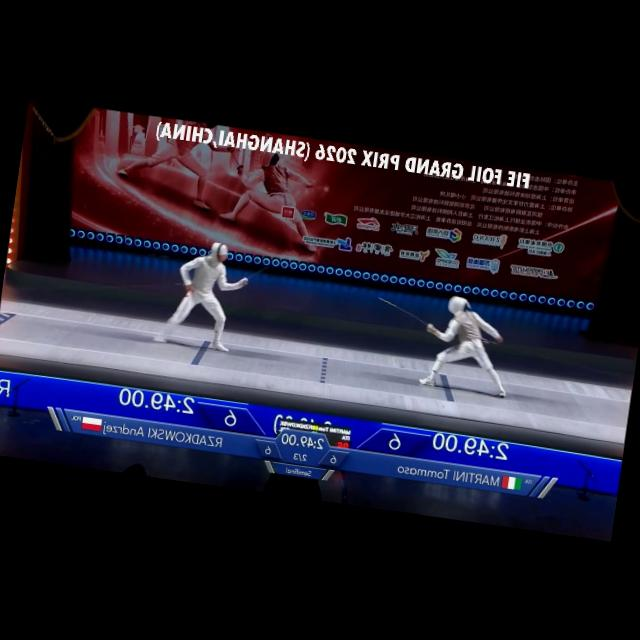blade: (368, 294, 445, 334), (236, 260, 269, 292)
